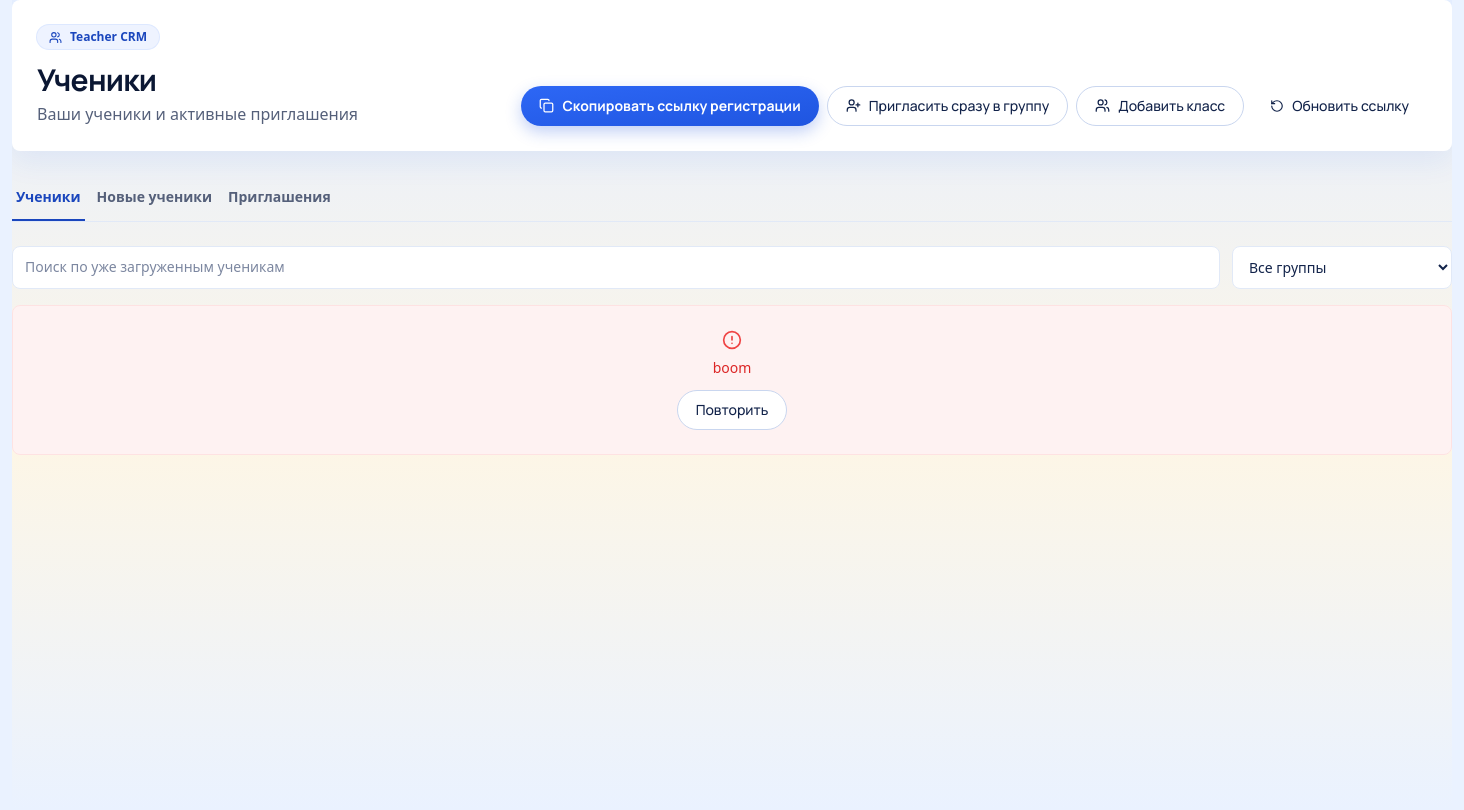
Test: StudentsPage › shows error state and allows retry
Expected: the text "boom" is shown, [713, 358, 751, 376]
Click the button "Повторить" at [732, 410], box [677, 390, 787, 430]
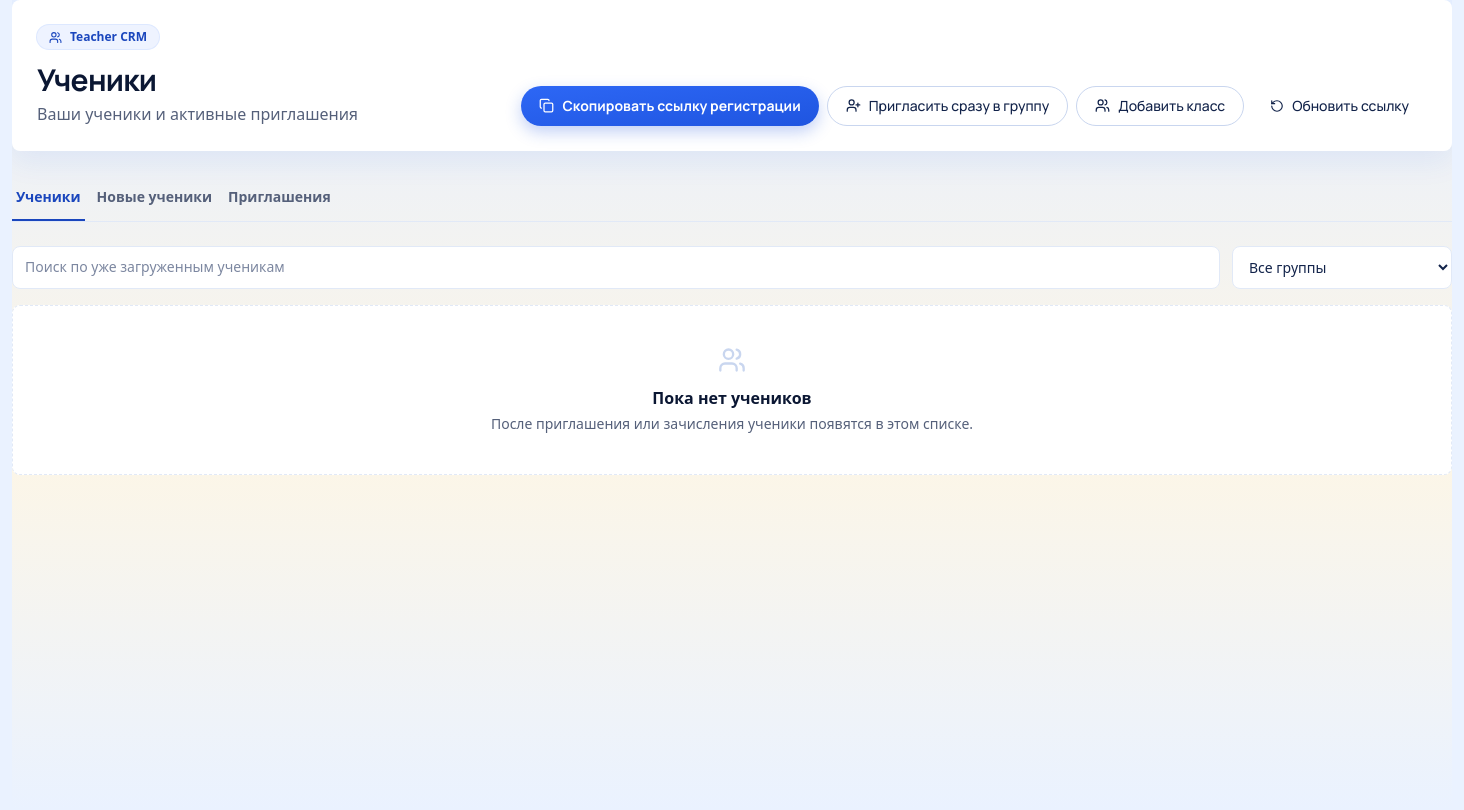
Expected: the heading "Пока нет учеников" is shown, [652, 386, 812, 408]
